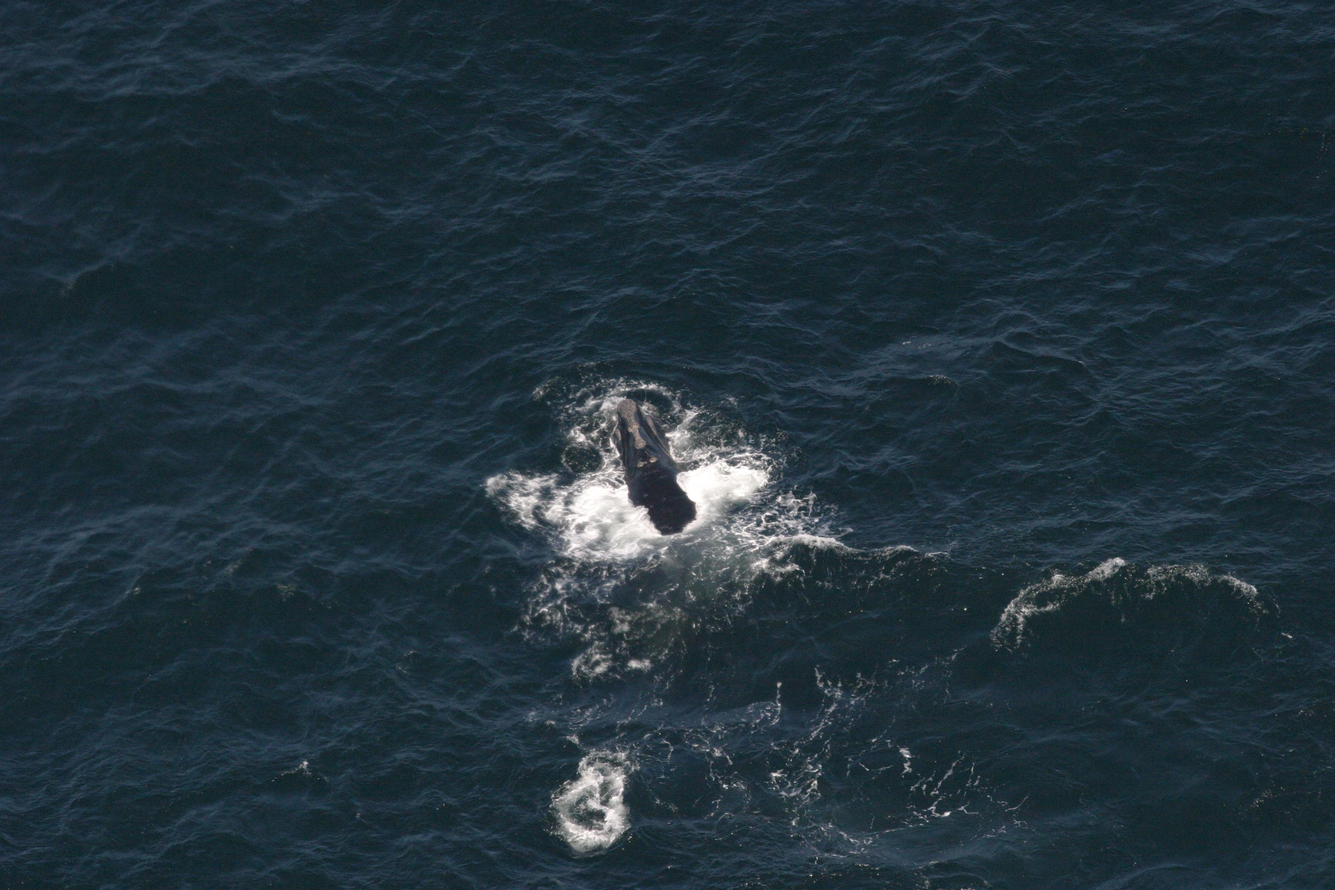whale: (606, 390, 711, 551)
